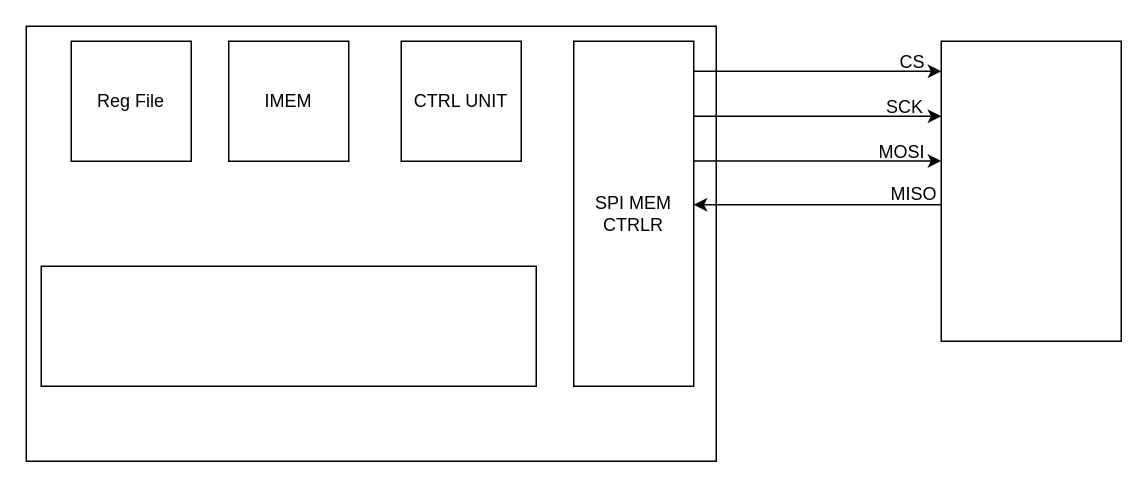
The diagram is 1148 pixels wide and 488 high, and some of its shapes have lost their labels. Here are the shapes that lost their labels. From the top down, the centre of each, then its label:
point 1030,190: RP 2040 512 Kbit (64 KB) SPI RAM Emulation
point 288,325: RISCV-CORE-0
